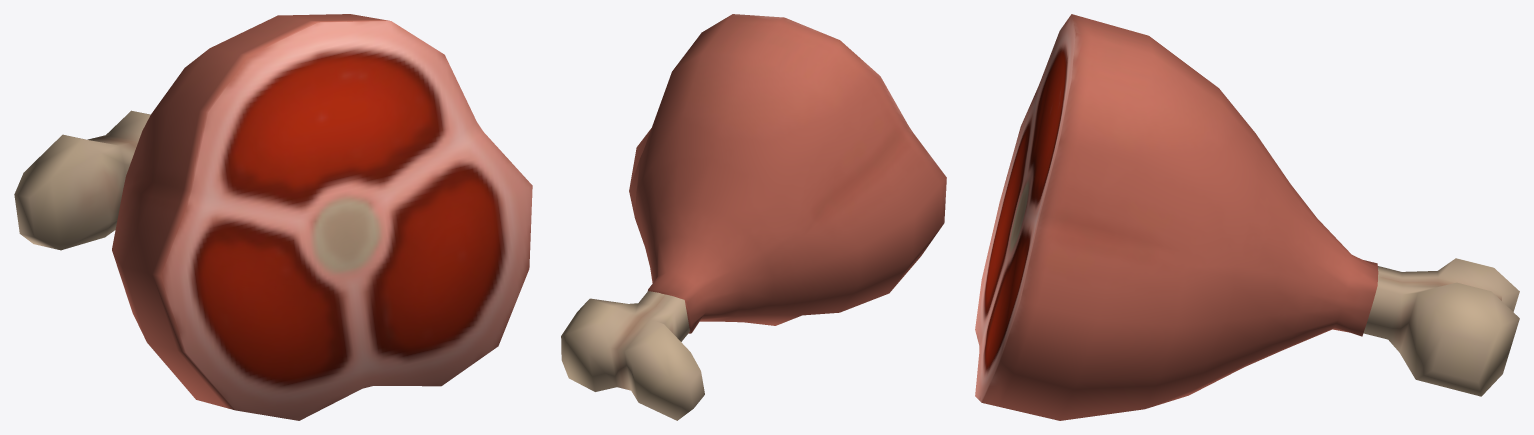
The model's file is Meat.gltf.
3 renders of one model, left to right at view 1: azimuth 30°, elevation 25°; view 2: azimuth 150°, elevation 25°; view 3: azimuth 270°, elevation 25°, orthographic. The views are drawn at different scales.
Parts seen in each view (by area): view 1: Cartoon_Meat_02; view 2: Cartoon_Meat_02; view 3: Cartoon_Meat_02.
Part boxes in pixels (<box>): Cartoon_Meat_02: <box>14,14,532,420</box>; Cartoon_Meat_02: <box>561,14,946,420</box>; Cartoon_Meat_02: <box>975,14,1519,420</box>.
Bounding box in the file's own units: 1.15 × 1.06 × 1.51.
Materials: 1 (1 with a texture image).
